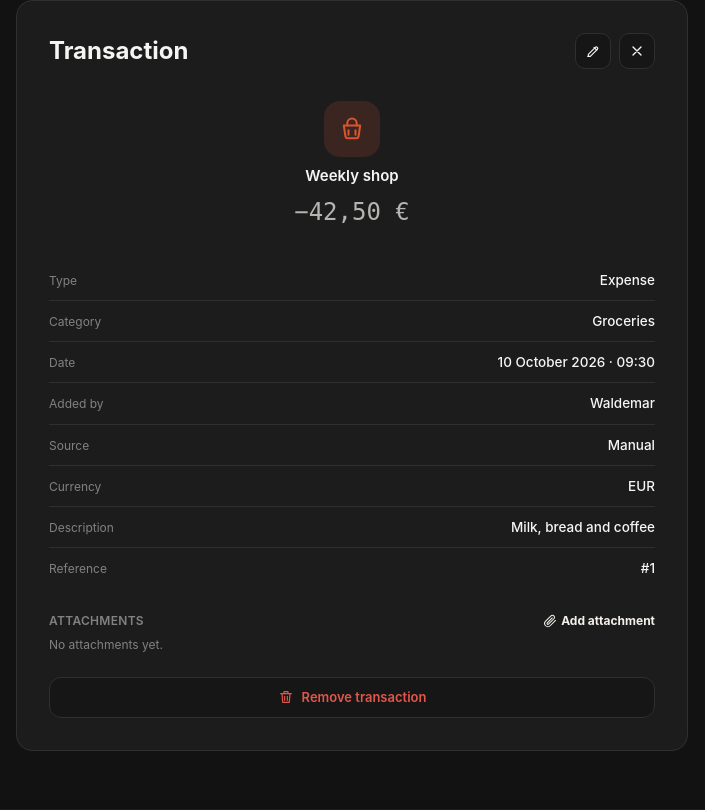
Test case: TransactionDetailPage › opens edit mode when the server sends the amount as a bare JSON number
Expected: the text "Weekly shop" is shown, [305, 165, 399, 188]
Click the button named "Edit" at [593, 51], box [575, 33, 611, 69]
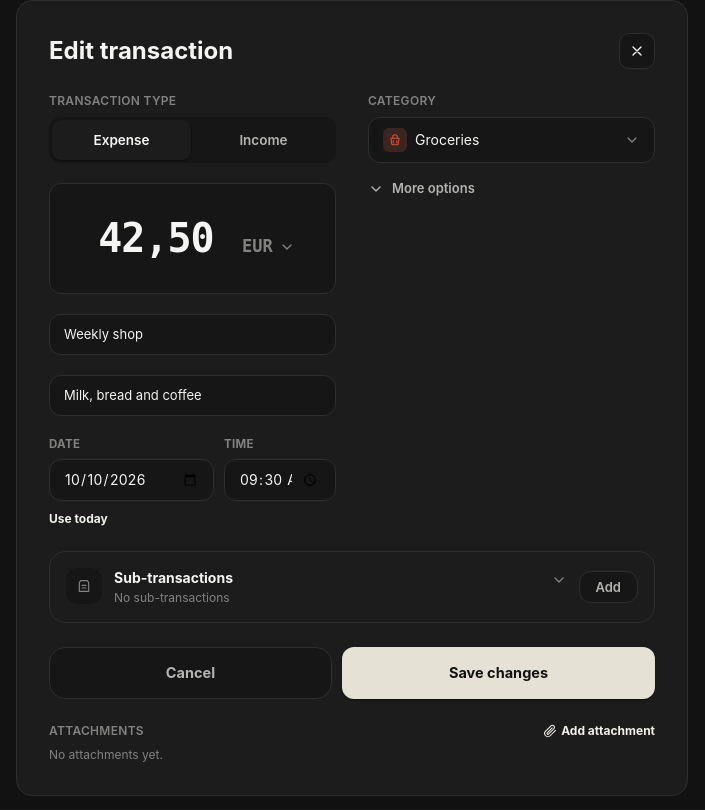
Expected: the field named "Transaction name" holds "Weekly shop", [49, 314, 336, 355]
Expected: the field named "Amount" holds "42,50", [84, 200, 228, 277]
